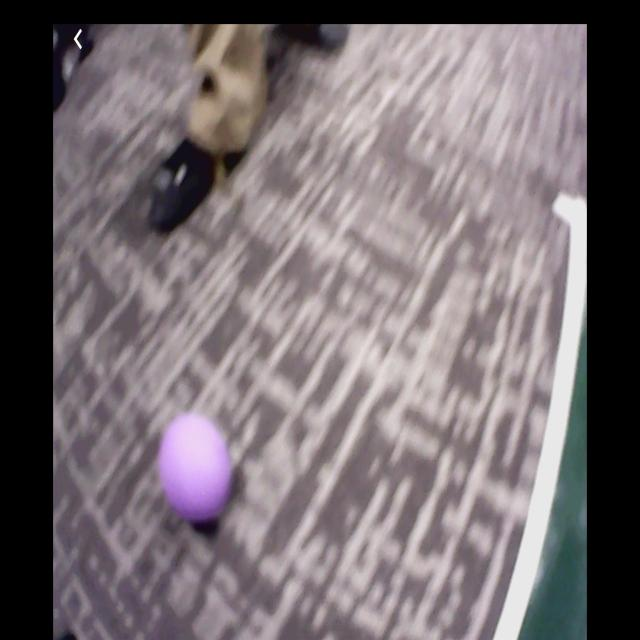ball: (160, 417, 233, 525)
